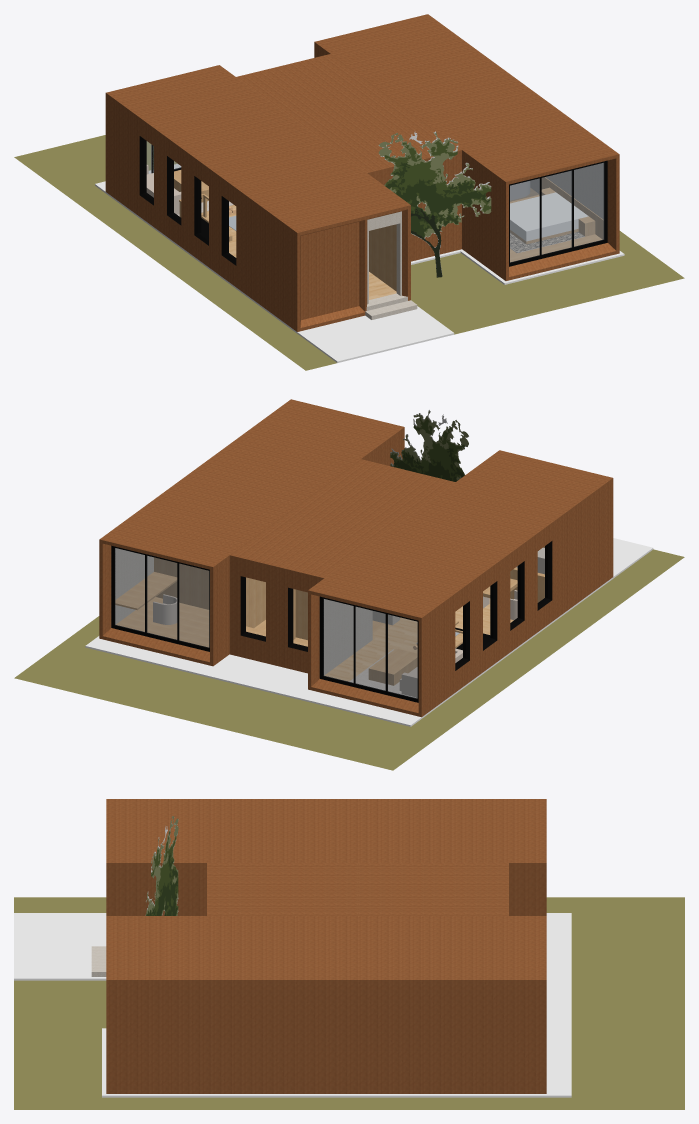
Rendered from 自建住宅100㎡住1~2人（自然风-渲染-贴图）.obj.
3 renders of one model, top to bottom at view 1: azimuth 30°, elevation 25°; view 2: azimuth 150°, elevation 25°; view 3: azimuth 270°, elevation 25°, orthographic. The views are drawn at different scales.
Parts seen in each view (by area): view 1: Mesh122 Group135 Model, Mesh89 Group99 Group98 Group1 Model, Mesh103 Group116 Group1 Model, Mesh93 Group104 Group98 Group1 Model, Mesh121 Component_85_1 Component_86_1 G_2D_TREE1 Group1 Model, Mesh105 Group118 Group1 Model, Mesh116 Group131 Group1 Model, Mesh9 Group12 Group3 Group2 Group1 Model, Mesh109 Group123 Group122 Group1 Model, Mesh102 Group115 Group1 Model, Mesh101 Group114 Group1 Model, Mesh117 Group132 Group1 Model (+20 smaller); view 2: Mesh122 Group135 Model, Mesh109 Group123 Group122 Group1 Model, Mesh94 Group106 Group105 Group1 Model, Mesh113 Group128 Group122 Group1 Model, Mesh117 Group132 Group1 Model, Mesh116 Group131 Group1 Model, Mesh98 Group111 Group105 Group1 Model, Mesh118 Group133 Group1 Model, Mesh101 Group114 Group1 Model, Mesh103 Group116 Group1 Model, Mesh105 Group118 Group1 Model, Mesh102 Group115 Group1 Model (+17 smaller); view 3: Mesh122 Group135 Model, Mesh116 Group131 Group1 Model, Mesh89 Group99 Group98 Group1 Model, Mesh94 Group106 Group105 Group1 Model, Mesh99 Group112 Group1 Model, Mesh104 Group117 Group1 Model, Mesh106 Group119 Group1 Model, Mesh107 Group120 Group1 Model, Mesh108 Group121 Group1 Model, Mesh103 Group116 Group1 Model, Mesh109 Group123 Group122 Group1 Model, Mesh105 Group118 Group1 Model (+10 smaller).
Boxes of the visible parts, x1,y1,x2,y2 form: Mesh122 Group135 Model: [14, 135, 684, 370]; Mesh89 Group99 Group98 Group1 Model: [478, 134, 619, 280]; Mesh103 Group116 Group1 Model: [270, 185, 410, 331]; Mesh93 Group104 Group98 Group1 Model: [510, 163, 603, 262]; Mesh121 Component_85_1 Component_86_1 G_2D_TREE1 Group1 Model: [378, 131, 491, 277]; Mesh105 Group118 Group1 Model: [242, 165, 383, 311]; Mesh116 Group131 Group1 Model: [95, 164, 624, 362]; Mesh9 Group12 Group3 Group2 Group1 Model: [301, 211, 401, 320]; Mesh109 Group123 Group122 Group1 Model: [105, 65, 246, 211]; Mesh102 Group115 Group1 Model: [188, 125, 328, 271]; Mesh101 Group114 Group1 Model: [160, 105, 300, 251]; Mesh117 Group132 Group1 Model: [133, 85, 273, 231]; Mesh122 Group135 Model: [14, 549, 684, 770]; Mesh109 Group123 Group122 Group1 Model: [308, 570, 448, 717]; Mesh94 Group106 Group105 Group1 Model: [99, 519, 239, 666]; Mesh113 Group128 Group122 Group1 Model: [323, 599, 417, 698]; Mesh117 Group132 Group1 Model: [336, 550, 476, 696]; Mesh116 Group131 Group1 Model: [85, 538, 653, 726]; Mesh98 Group111 Group105 Group1 Model: [115, 548, 208, 647]; Mesh118 Group133 Group1 Model: [229, 507, 342, 665]; Mesh101 Group114 Group1 Model: [363, 530, 503, 676]; Mesh103 Group116 Group1 Model: [472, 450, 613, 596]; Mesh105 Group118 Group1 Model: [445, 470, 585, 616]; Mesh102 Group115 Group1 Model: [390, 510, 531, 656]; Mesh122 Group135 Model: [14, 897, 684, 1109]; Mesh116 Group131 Group1 Model: [14, 913, 571, 1097]; Mesh89 Group99 Group98 Group1 Model: [106, 916, 169, 1093]; Mesh94 Group106 Group105 Group1 Model: [483, 916, 546, 1093]; Mesh99 Group112 Group1 Model: [420, 916, 483, 1093]; Mesh104 Group117 Group1 Model: [358, 916, 420, 1093]; Mesh106 Group119 Group1 Model: [295, 916, 357, 1093]; Mesh107 Group120 Group1 Model: [169, 916, 231, 1093]; Mesh108 Group121 Group1 Model: [232, 916, 294, 1093]; Mesh103 Group116 Group1 Model: [106, 799, 169, 915]; Mesh109 Group123 Group122 Group1 Model: [483, 799, 546, 915]; Mesh105 Group118 Group1 Model: [169, 799, 231, 915].
Bounding box in the file's own units: 12000 × 4497 × 16000.
Materials: 21 (9 with a texture image).
